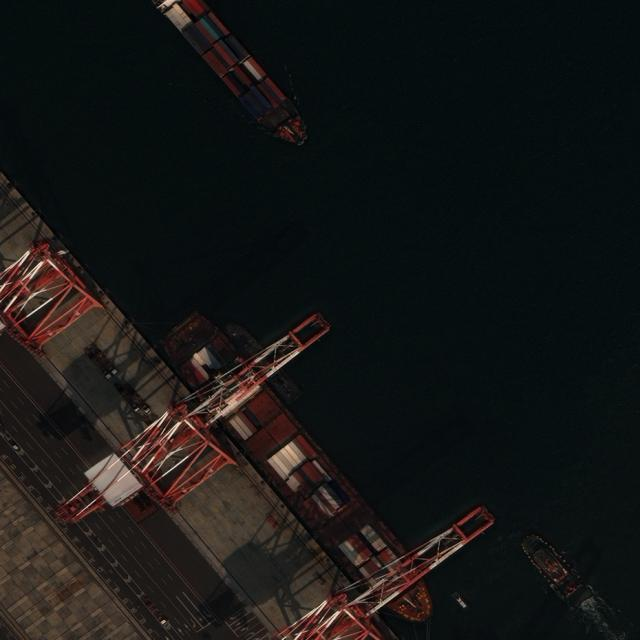Cargo: (223, 317, 308, 412)
Container Ship: (156, 308, 447, 638), (153, 1, 308, 147)
Other Ship: (517, 529, 584, 600)
